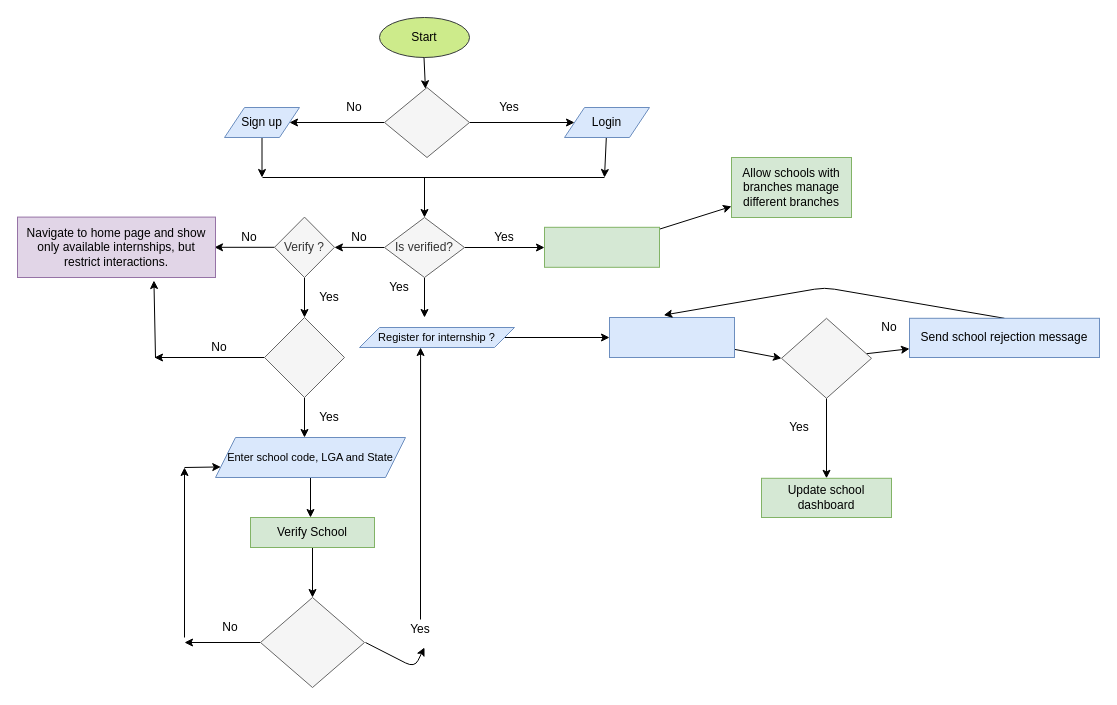
This 1117x705 diagram has some shape labels left out. Each missing label, with the box of its shape:
Ask to proceed ?: (264, 316, 344, 398)
Company accepted ?: (780, 317, 872, 398)
Have an Account ?: (384, 86, 470, 158)
Send application to a company: (608, 316, 734, 358)
Show school dashboard: (544, 226, 660, 267)
Verification successful ?: (260, 596, 364, 688)
